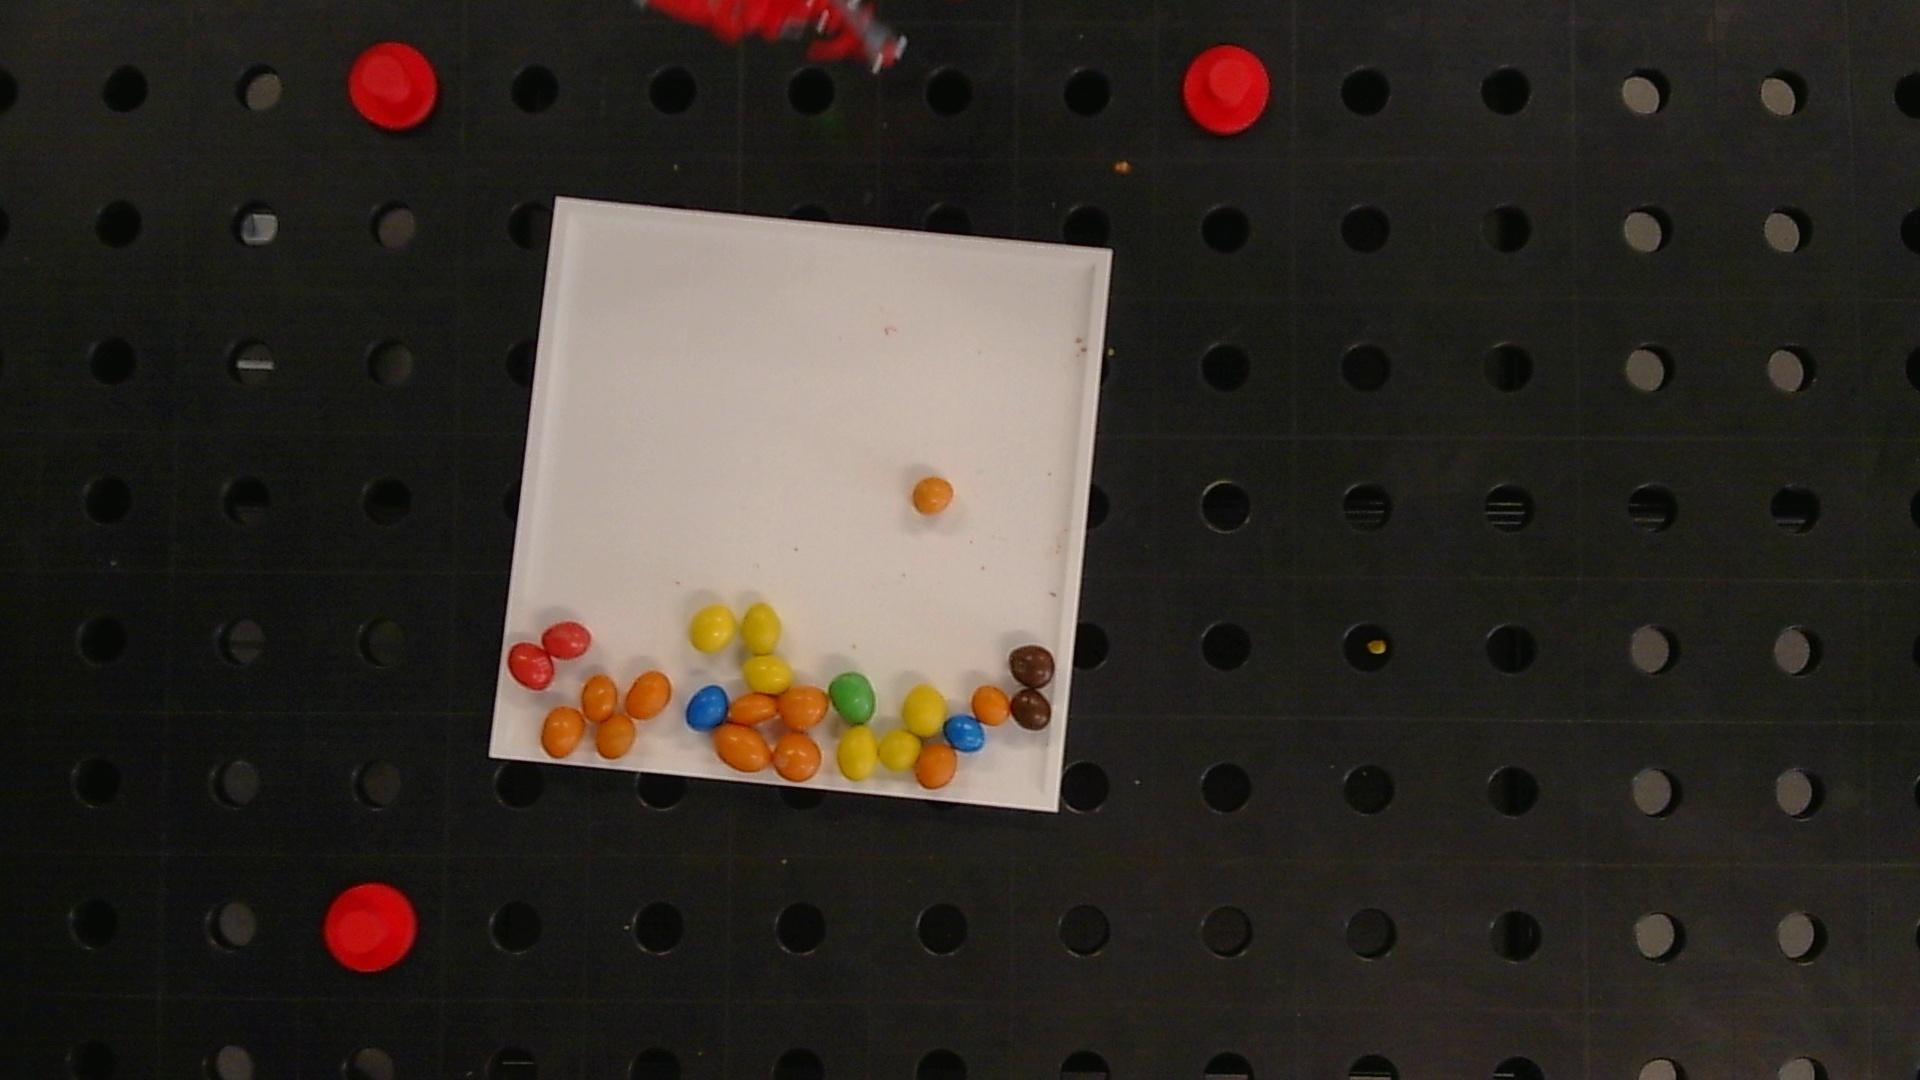blue: (686, 684, 728, 729), (943, 715, 985, 752)
brown: (1009, 645, 1056, 687), (1009, 690, 1051, 729)
green: (829, 673, 877, 724)
orange: (715, 724, 771, 773), (771, 733, 822, 781), (541, 705, 587, 757), (624, 671, 671, 719), (778, 686, 828, 731), (915, 744, 957, 789), (596, 713, 636, 758), (582, 674, 618, 721), (729, 692, 779, 725), (913, 476, 955, 514), (972, 686, 1010, 725)
red: (508, 642, 554, 690), (542, 621, 591, 659)
yellow: (903, 684, 947, 736), (836, 727, 878, 779), (690, 605, 737, 651), (742, 603, 781, 653), (745, 655, 791, 694), (880, 729, 920, 769)
